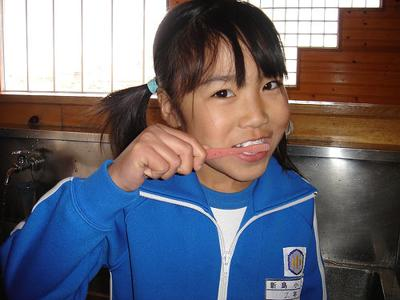person: (2, 2, 330, 300)
